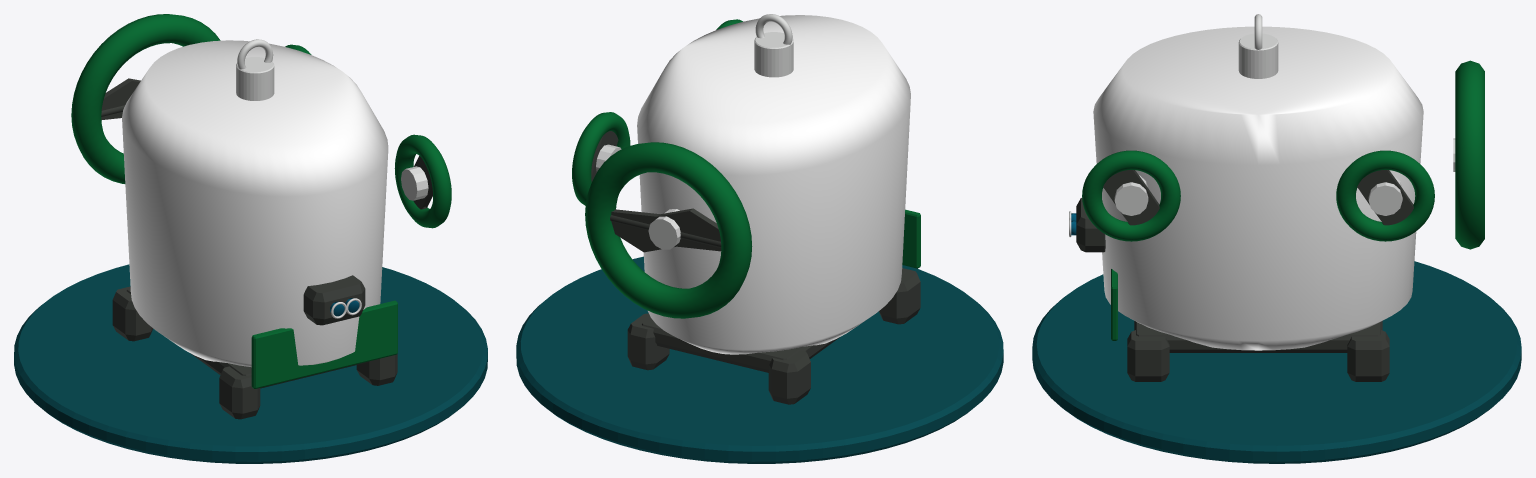
The model's file is zipline-delivery-droid.glb.
3 renders of one model, left to right at view 1: azimuth 30°, elevation 25°; view 2: azimuth 150°, elevation 25°; view 3: azimuth 270°, elevation 25°, orthographic. The views are drawn at different scales.
Visible parts, largest first — view 1: body, pedestal; view 2: body, pedestal; view 3: body, pedestal.
Part boxes in pixels (x1,y1,x2,y2): body: (71, 14, 451, 419); pedestal: (14, 264, 487, 463); body: (572, 14, 920, 404); pedestal: (516, 256, 1003, 463); body: (1069, 14, 1484, 381); pedestal: (1032, 261, 1521, 463).
Bounding box in the file's own units: 4.4 × 3.41 × 4.4.
